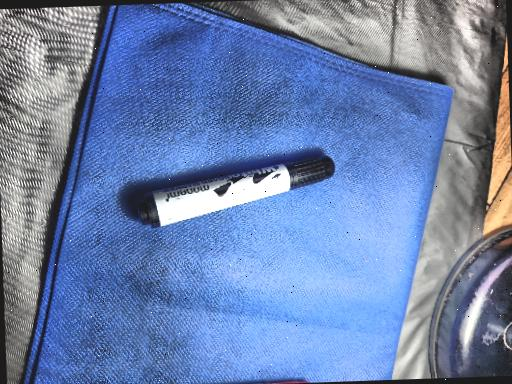marcador negro: (138, 156, 334, 227)
